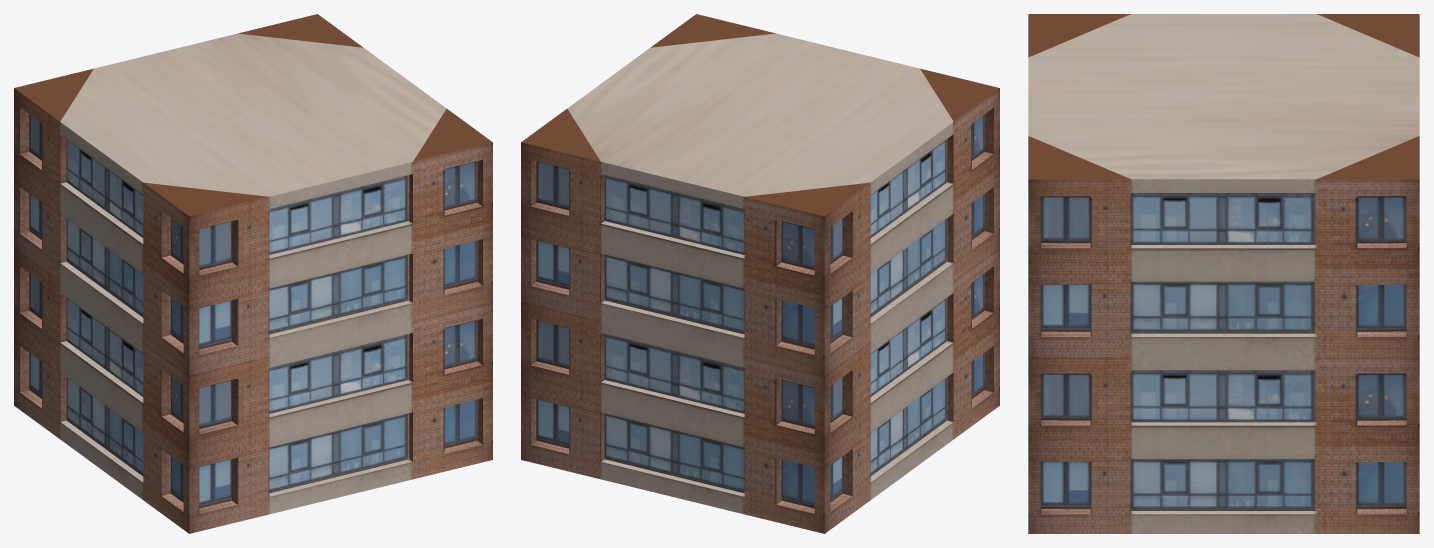
File: BG_Building3.fbx
3 views of the same model, side by side, from view 1: azimuth 30°, elevation 25°; view 2: azimuth 150°, elevation 25°; view 3: azimuth 270°, elevation 25° (orthographic). The views are drawn at different scales.
Visible parts, largest first — view 1: BG_Building3; view 2: BG_Building3; view 3: BG_Building3.
Boxes of the visible parts, x1,y1,x2,y2 form: BG_Building3: (14, 14, 492, 533); BG_Building3: (521, 14, 999, 533); BG_Building3: (1028, 14, 1419, 533).
Bounding box in the file's own units: 801 × 801 × 801.
